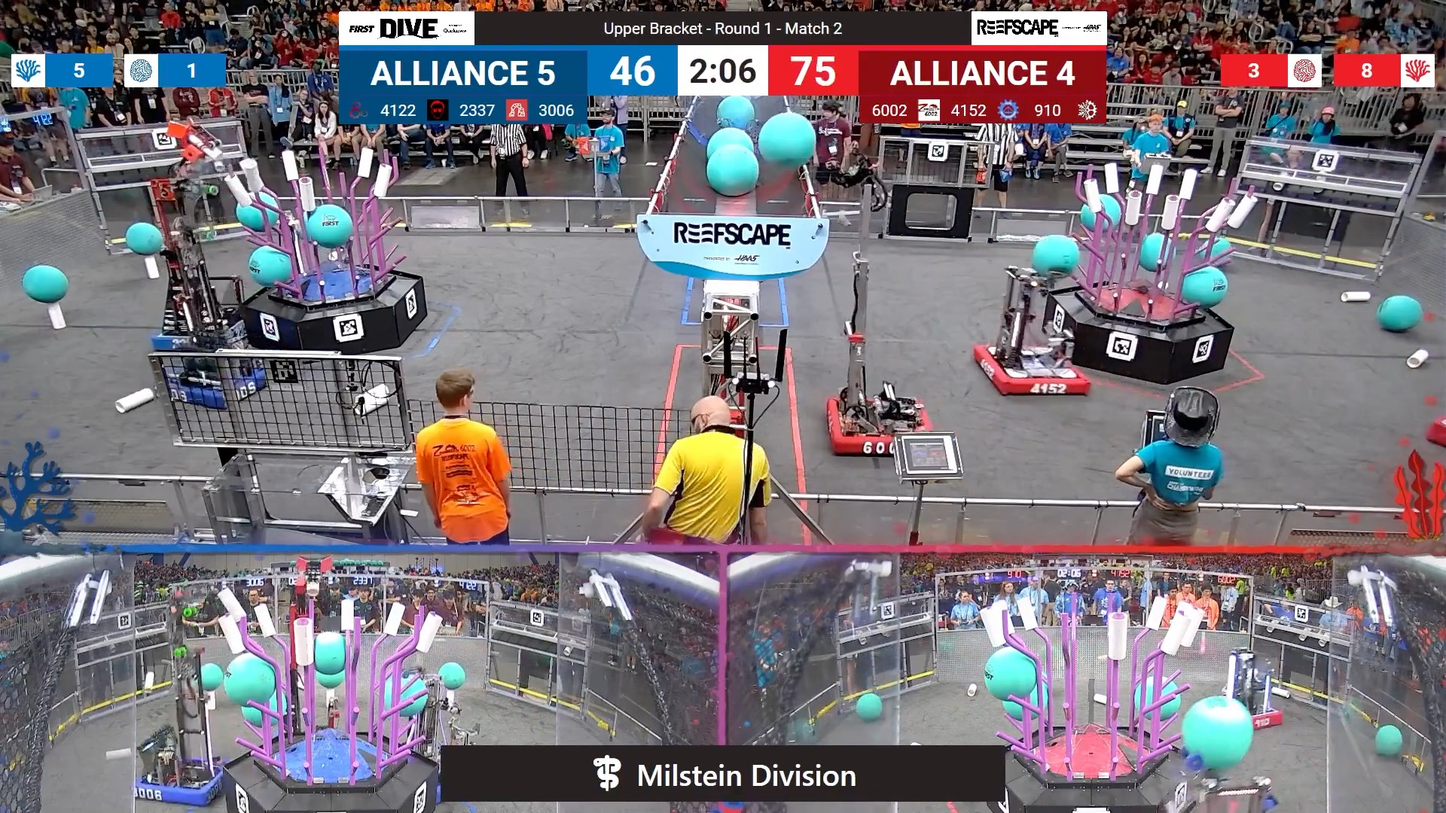bumpers: (816, 391, 939, 461), (966, 343, 1095, 403), (127, 751, 233, 811), (160, 360, 272, 410), (146, 309, 244, 351), (1217, 695, 1291, 732)
